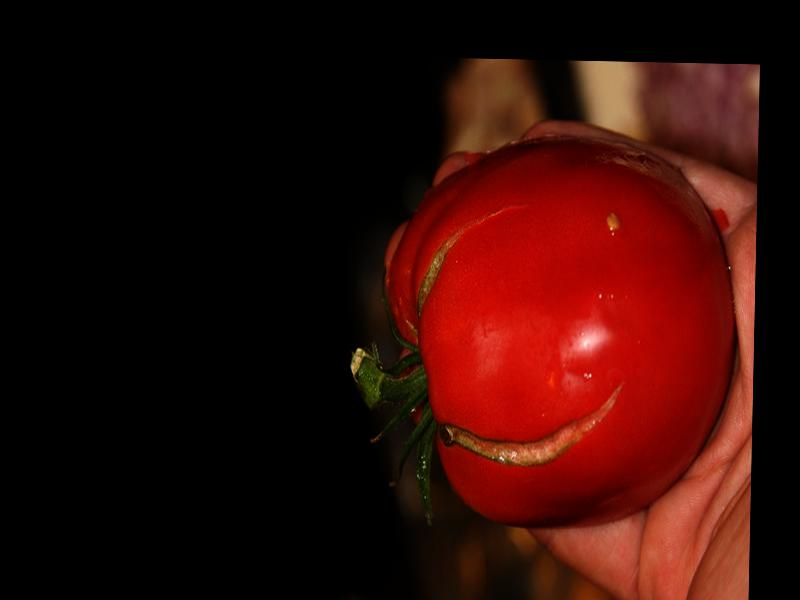Tomato: (383, 134, 739, 526)
